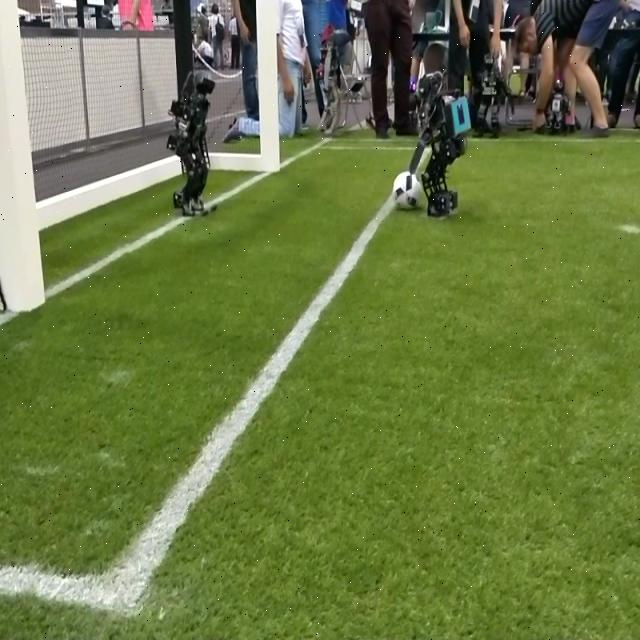ball: (393, 172, 423, 212)
goalpost: (0, 2, 48, 305), (256, 2, 279, 168)
